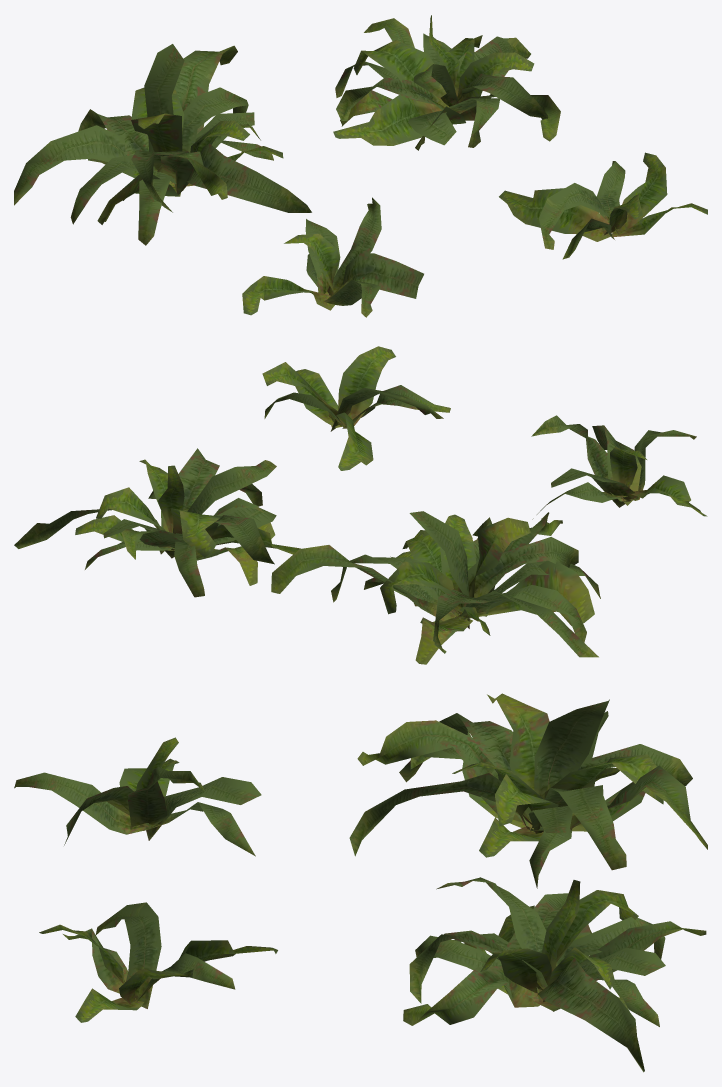
The model's file is fern_02-low.glb.
The picture shows the model from 3 angles, top to bottom: view 1: azimuth 30°, elevation 25°; view 2: azimuth 150°, elevation 25°; view 3: azimuth 270°, elevation 25°; orthographic projection. The views are drawn at different scales.
Visible parts, largest first — view 1: fern_02_b, fern_02_c, fern_02_d, fern_02_a; view 2: fern_02_b, fern_02_c, fern_02_d, fern_02_a; view 3: fern_02_b, fern_02_c, fern_02_a, fern_02_d.
Boxes of the visible parts, x1,y1,x2,y2 form: fern_02_b: [14, 44, 311, 245]; fern_02_c: [333, 15, 560, 150]; fern_02_d: [499, 152, 707, 259]; fern_02_a: [242, 197, 423, 317]; fern_02_b: [271, 511, 600, 664]; fern_02_c: [14, 448, 300, 597]; fern_02_d: [262, 346, 450, 470]; fern_02_a: [531, 415, 707, 519]; fern_02_b: [349, 693, 707, 888]; fern_02_c: [403, 877, 706, 1072]; fern_02_a: [14, 737, 261, 856]; fern_02_d: [39, 902, 277, 1022].
Bounding box in the file's own units: 1.96 × 0.4246 × 1.72.
Materials: 1 (1 with a texture image).
